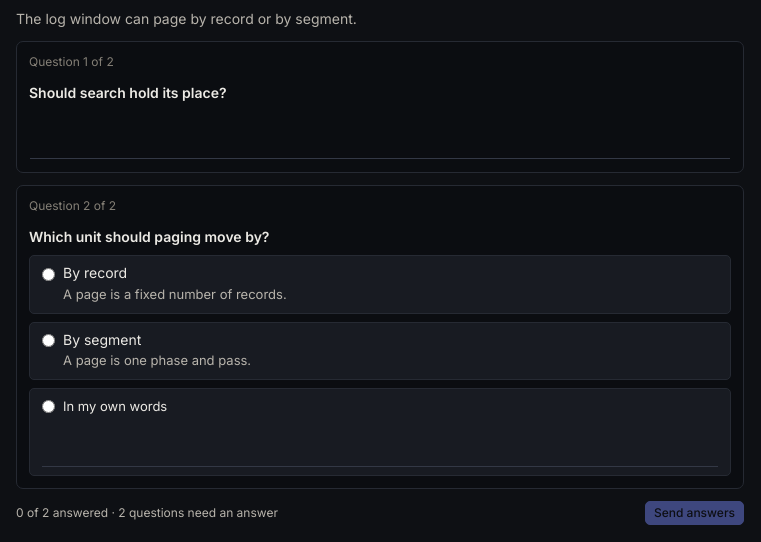
Scenario: what is selected is the answer › GEA-FR-UEFS: typing selects the free-text row
Click the radio button labelled "By record A page is a fixed number of records.".
click(48, 274)  # box [42, 268, 55, 281]
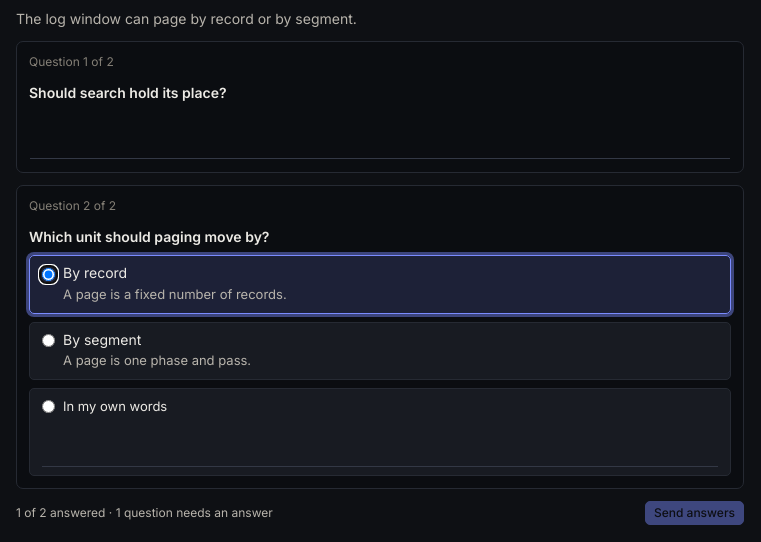
Type "neither" into the text box named "Your answer to question 2".
click(380, 444); type("neither")  # box [42, 420, 718, 467]
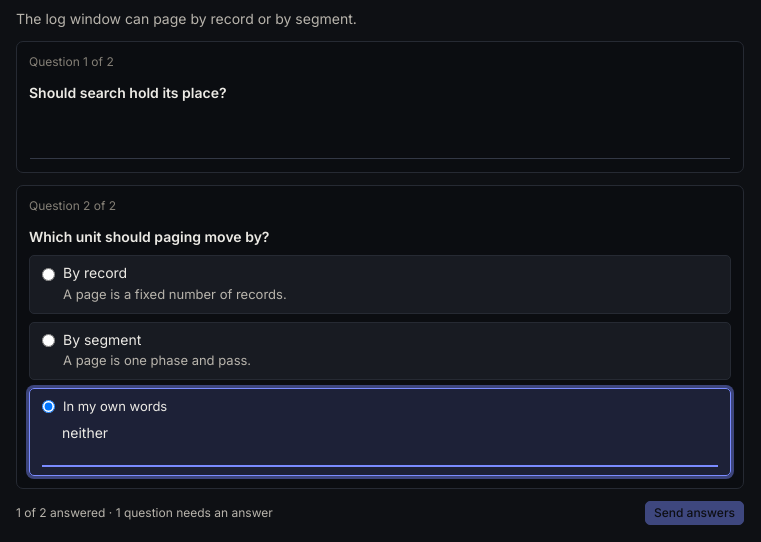
Expected: the radio button labelled "By record A page is a fixed number of records." is not checked, [42, 268, 55, 281]
Expected: the radio button labelled "In my own words" is checked, [42, 400, 55, 413]
